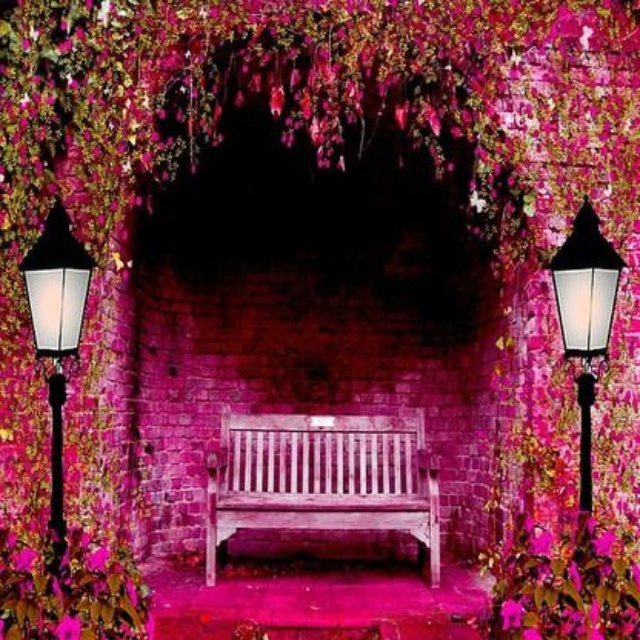obstacle: (198, 394, 455, 602)
